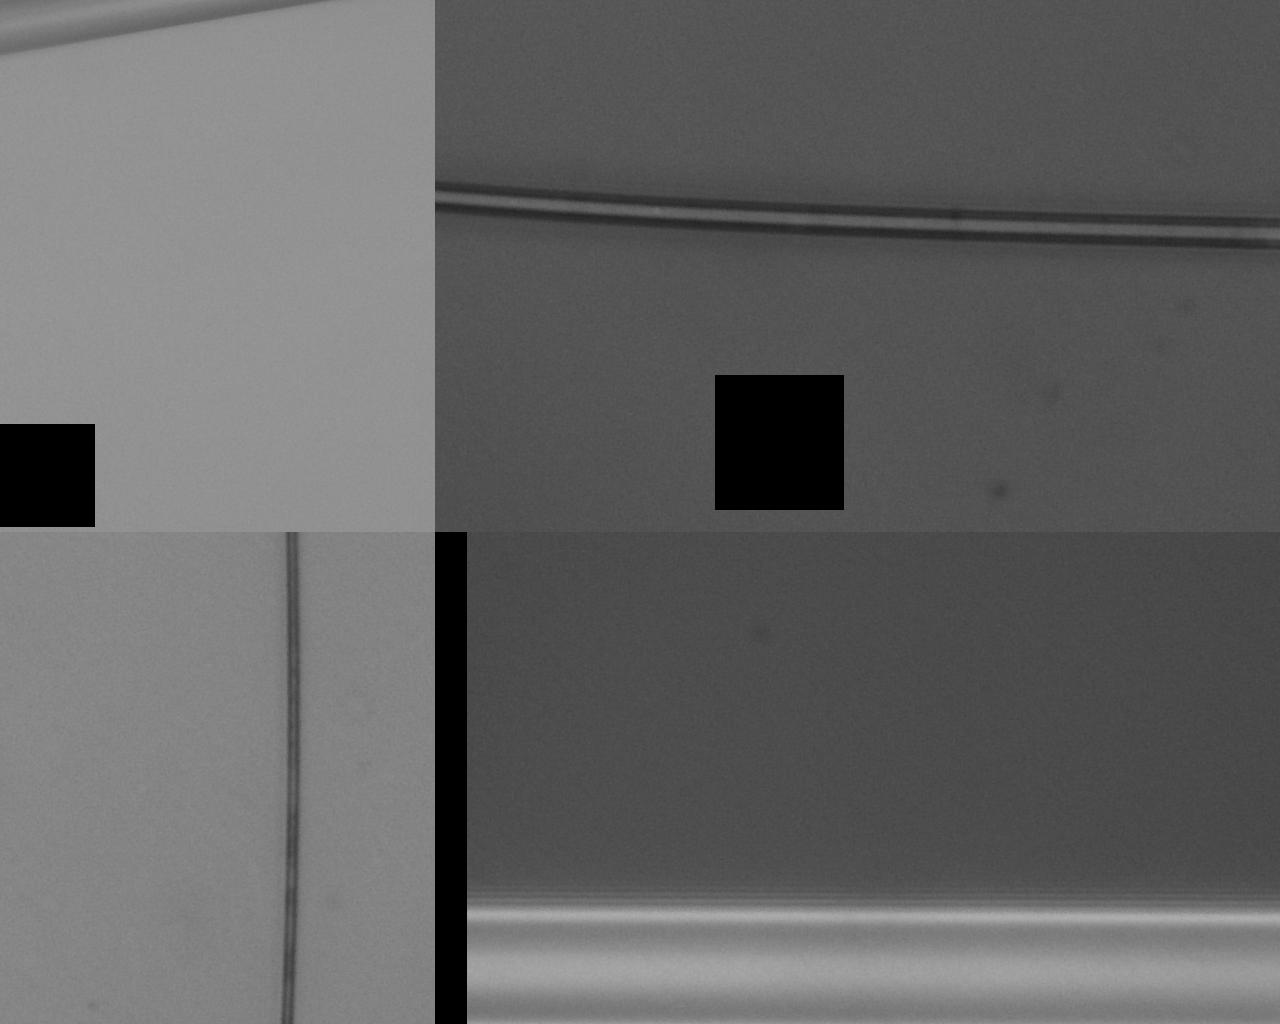fiber: (128, 642, 1152, 755)
